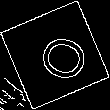O_W: (23, 25, 87, 85)
